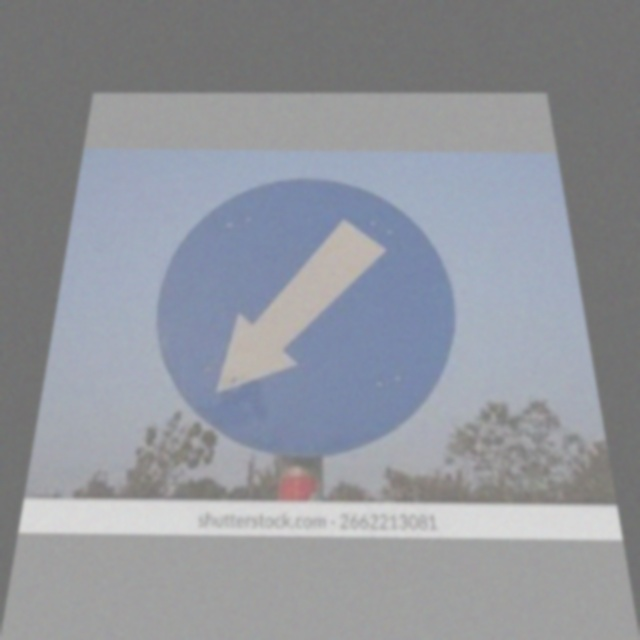Compulsory_Keep_Left: (144, 180, 458, 443)
